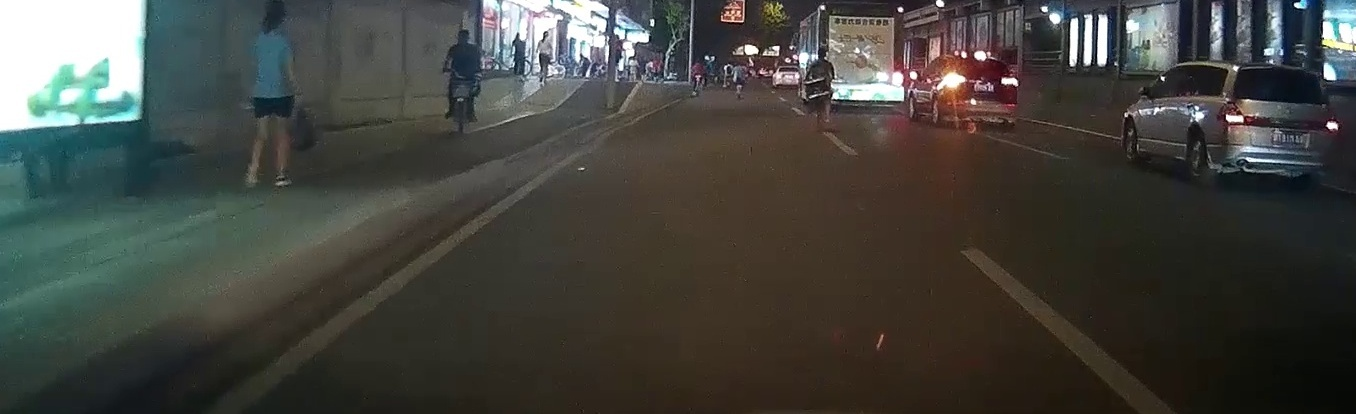L_light: (1217, 103, 1248, 127), (942, 73, 966, 88)
R_light: (1319, 113, 1340, 133), (999, 74, 1019, 89)
T_light: (1270, 65, 1295, 72), (973, 54, 988, 61)
night-left: (933, 52, 1019, 131)
night-no: (1213, 63, 1341, 189)
